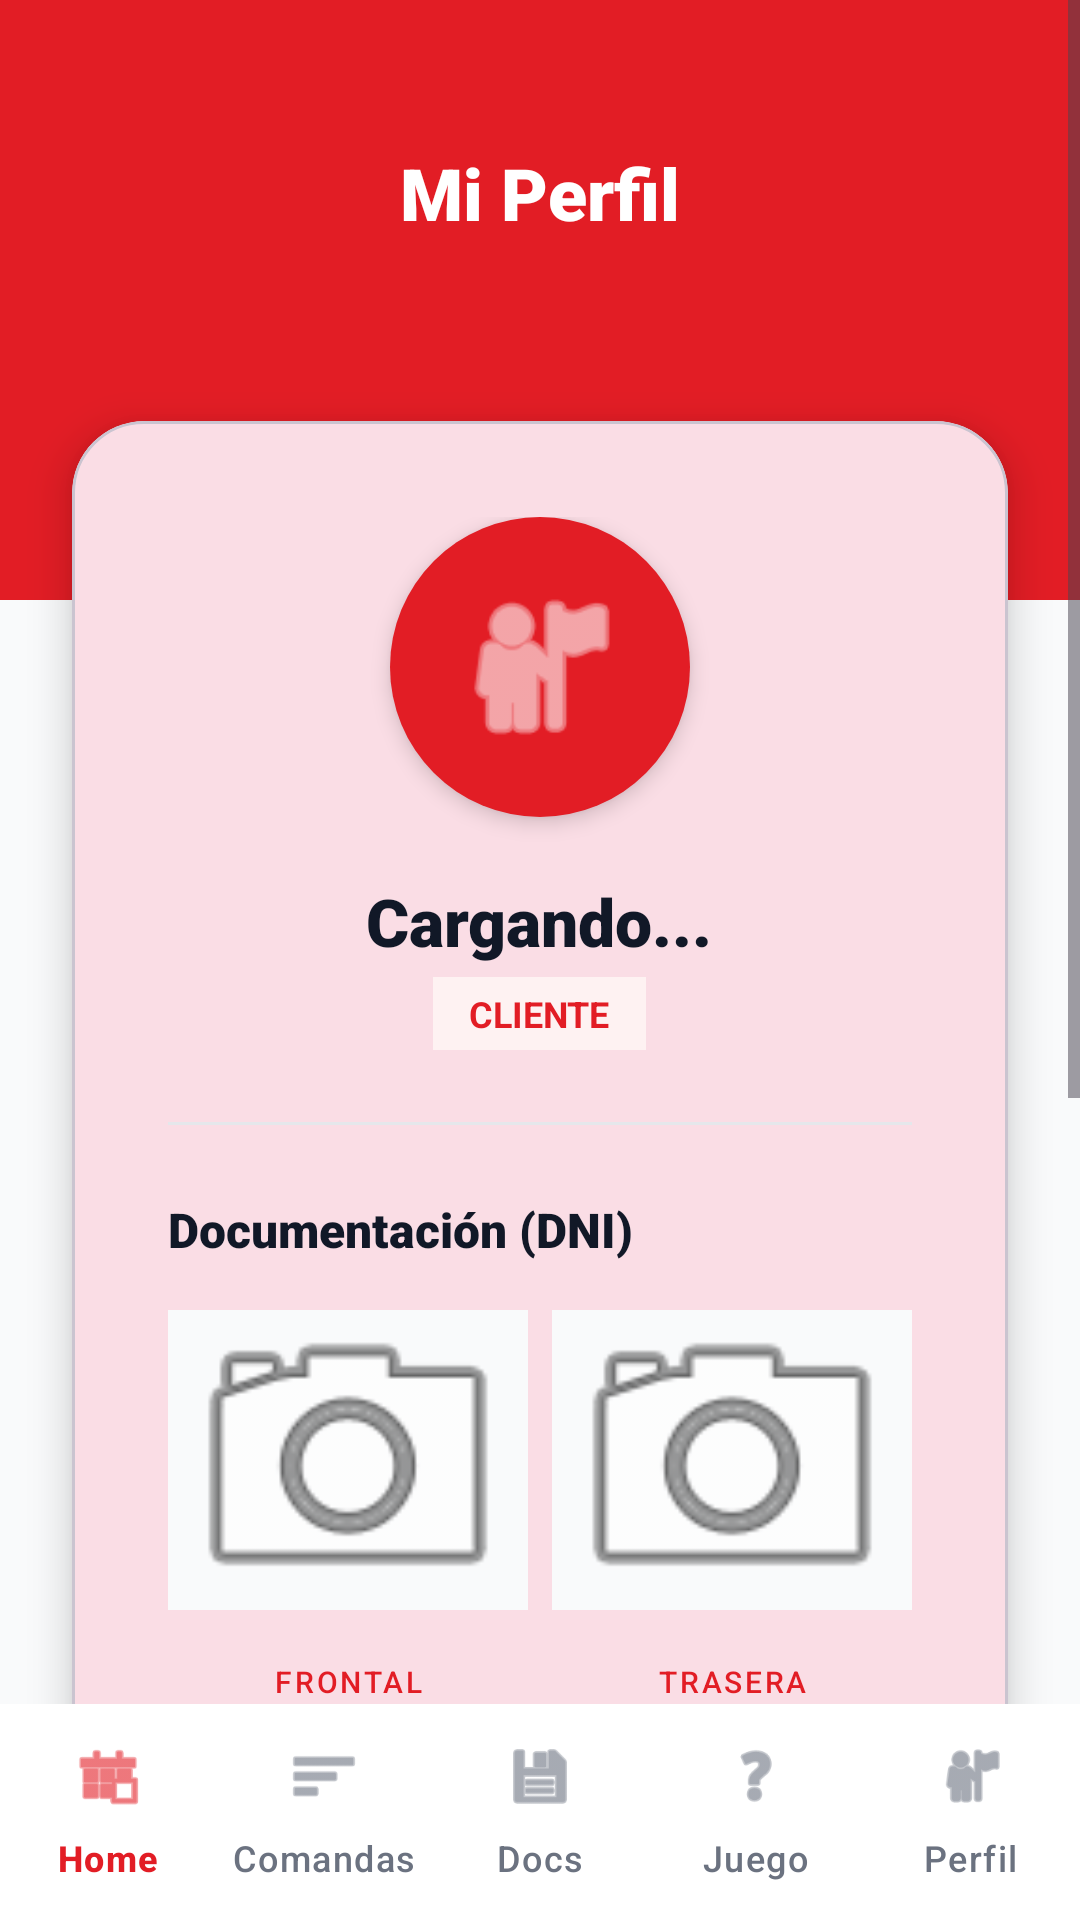

Icons on this 1080px×1920px Android screen, each with the point to tap as point (x, y):
camera: point (348, 1460), point (732, 1460)
myplaces: point (542, 667)
